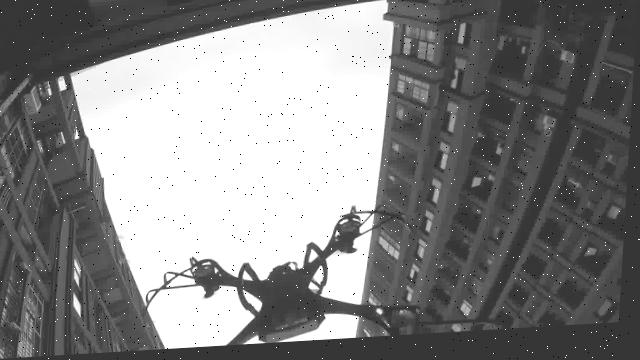drone: (138, 185, 495, 352)
